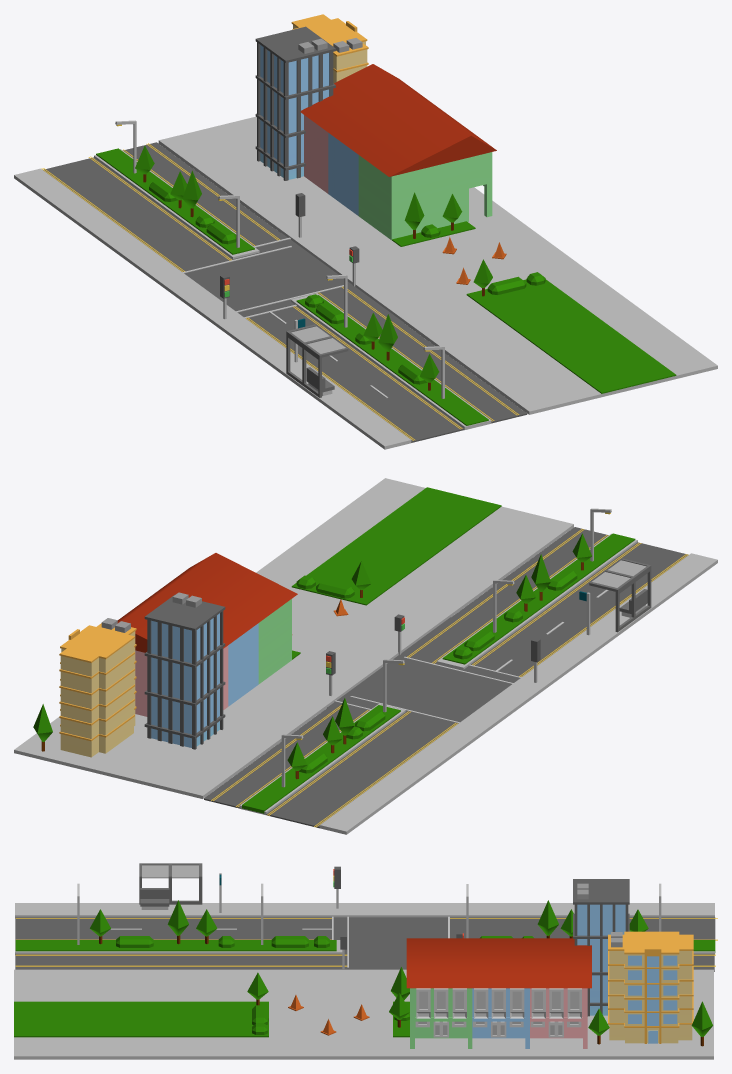
Rendered from city 2.fbx.
3 views of the same model, one above another, from view 1: azimuth 30°, elevation 25°; view 2: azimuth 150°, elevation 25°; view 3: azimuth 270°, elevation 25° (orthographic). The views are drawn at different scales.
Visible parts, largest first — view 1: pCube531, pCube671, pCube579, pCube589, pCube511, pCube546, pCube673, pCube582, pCube569, pCube581, pCube516, pCube674 (+16 smaller); view 2: pCube511, pCube531, pCube671, pCube589, pCube536, pCube579, pCube673, pCube569, pCube581, pCube516, pCube582, pCube674 (+17 smaller); view 3: pCube531, pCube579, pCube671, pCube589, pCube581, pCube536, pCube582, pCube670, pCube602, pCube551, pCube583, pCube543 (+37 smaller).
Boxes of the visible parts, x1,y1,x2,y2 form: pCube531: (282,209,567,323); pCube671: (405,281,691,414); pCube579: (300,64,496,176); pCube589: (466,279,676,393); pCube511: (158,116,353,233); pCube546: (358,152,492,240); pCube673: (43,157,217,260); pCube582: (290,338,464,442); pCube569: (211,232,404,328); pCube581: (168,250,340,350); pCube516: (260,45,329,179); pCube674: (14,168,163,268); pCube511: (40,687,326,798); pCube531: (254,575,450,707); pCube671: (288,484,573,617); pCube589: (291,487,501,605); pCube536: (60,631,135,757); pCube579: (117,553,297,652); pCube673: (266,722,441,828); pCube569: (327,617,520,723); pCube581: (394,634,565,735); pCube516: (151,613,219,747); pCube582: (514,542,688,644); pCube674: (320,734,470,834); pCube531: (247,969,480,1043); pCube579: (406,938,591,988); pCube671: (14,969,247,1043); pCube589: (14,1001,268,1037); pCube581: (248,917,480,941); pCube536: (609,951,692,1043); pCube582: (15,917,248,939); pCube670: (14,1044,247,1059); pCube602: (15,954,247,969); pCube551: (247,1044,480,1059); pCube583: (480,1044,713,1059); pCube543: (247,903,481,917).
Size of the model in its own units: 12.48 by 4.66 by 24.23.
